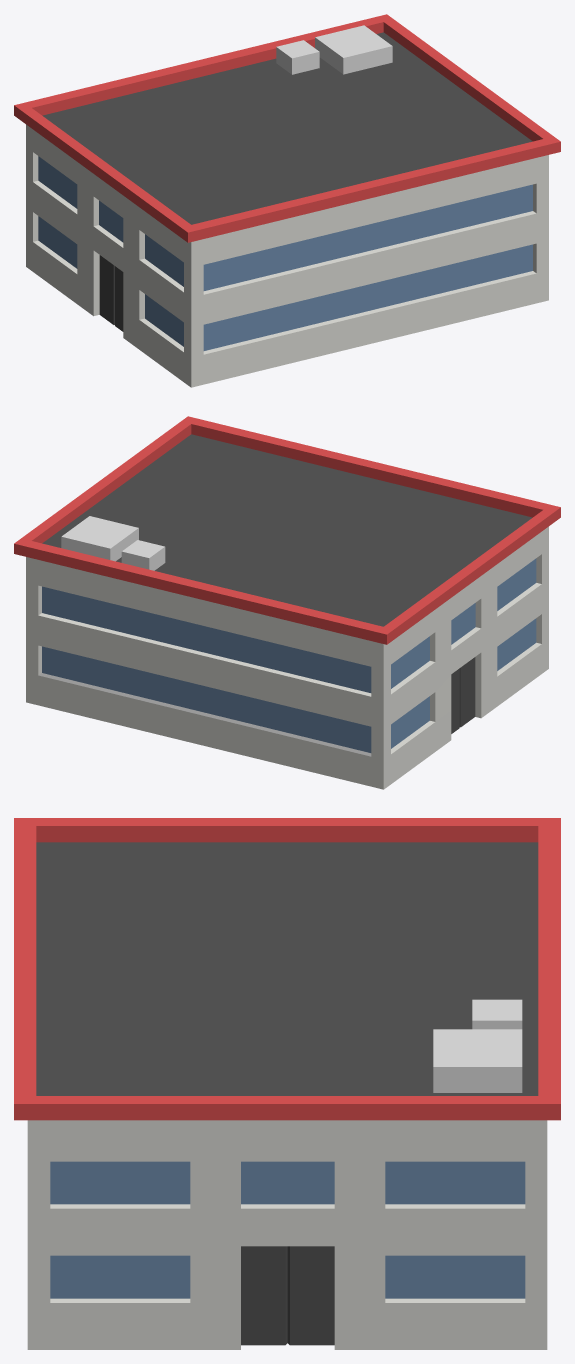
The model's file is Building_Red.fbx.
The picture shows the model from 3 angles, top to bottom: view 1: azimuth 30°, elevation 25°; view 2: azimuth 150°, elevation 25°; view 3: azimuth 270°, elevation 25°; orthographic projection. The views are drawn at different scales.
Visible parts, largest first — view 1: pCube1, pCube2, pCube3; view 2: pCube1, pCube2, pCube3; view 3: pCube1, pCube2, pCube3.
Boxes of the visible parts, bbox=[...] form: pCube1: bbox=[14, 14, 560, 387]; pCube2: bbox=[315, 25, 392, 74]; pCube3: bbox=[276, 40, 319, 74]; pCube1: bbox=[14, 416, 560, 789]; pCube2: bbox=[61, 516, 138, 561]; pCube3: bbox=[121, 540, 165, 570]; pCube1: bbox=[14, 818, 560, 1349]; pCube2: bbox=[433, 1029, 522, 1092]; pCube3: bbox=[472, 999, 522, 1029].
Size of the model in its own units: 5.21 by 2.22 by 4.21.
